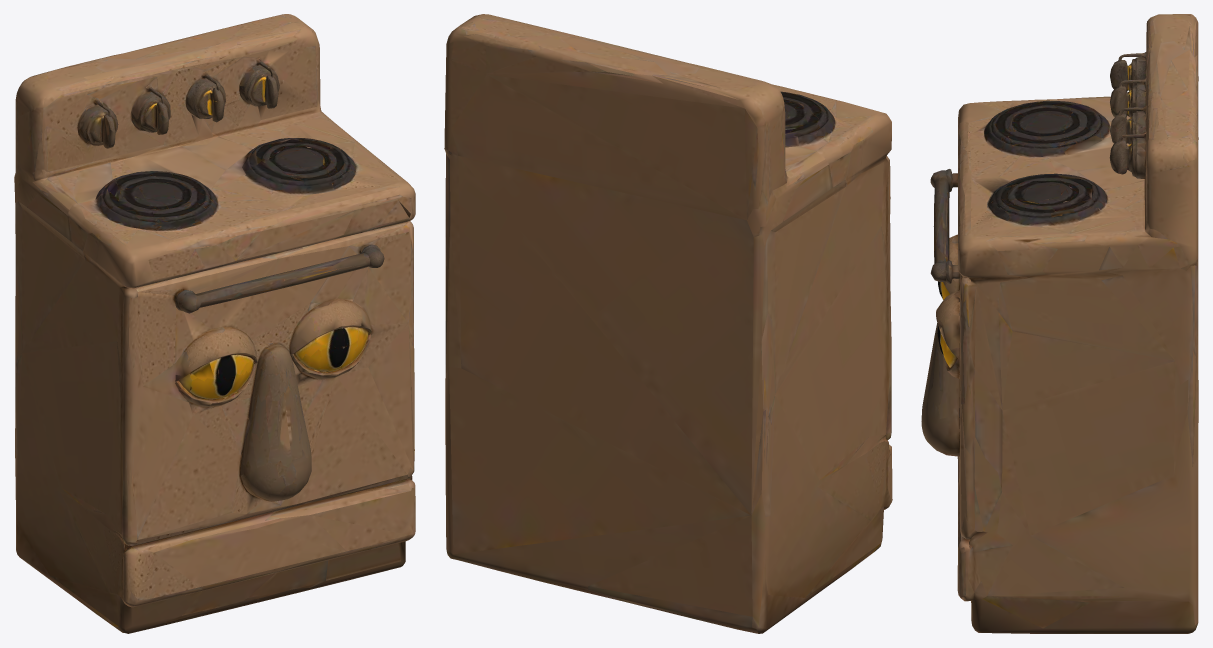
Rendered from stove.glb.
3 renders of one model, left to right at view 1: azimuth 30°, elevation 25°; view 2: azimuth 150°, elevation 25°; view 3: azimuth 270°, elevation 25°, orthographic. The views are drawn at different scales.
Visible parts, largest first — view 1: Mesh_0; view 2: Mesh_0; view 3: Mesh_0.
Part boxes in pixels (box(x1,y1,x2,y2)): Mesh_0: box(14, 14, 415, 633); Mesh_0: box(444, 14, 892, 633); Mesh_0: box(921, 14, 1198, 633).
Bounding box in the file's own units: 1.2 × 1.9 × 0.9757.
Materials: 1 (1 with a texture image).
